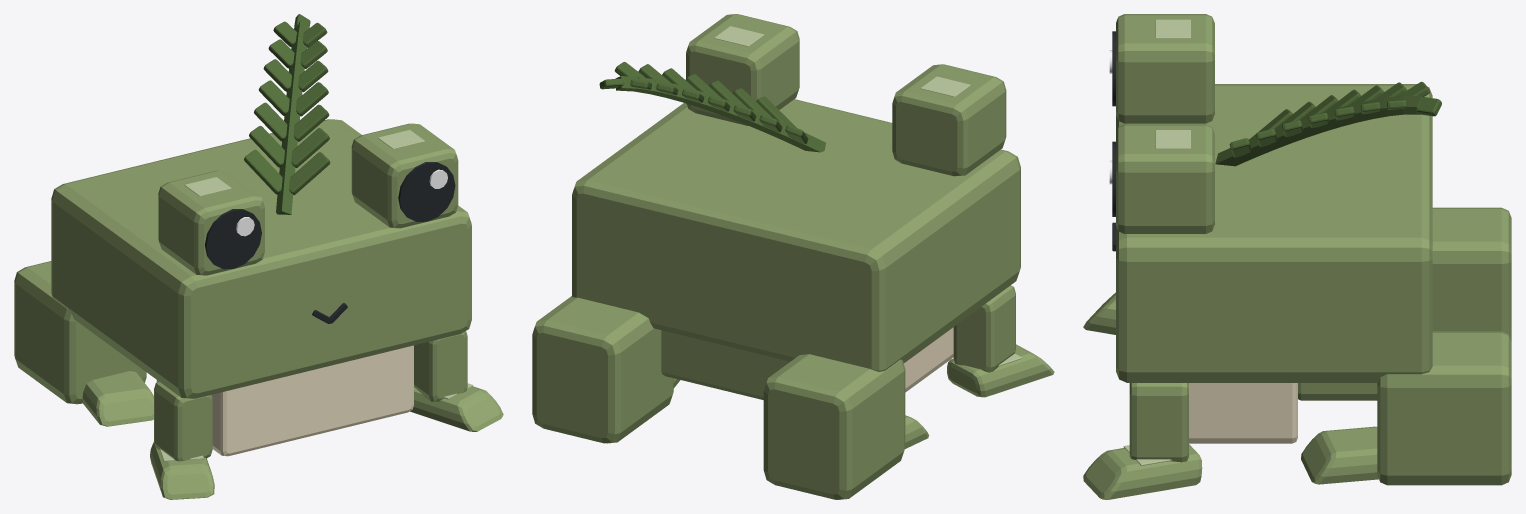
File: fern_frog.glb
The picture shows the model from 3 angles, left to right: view 1: azimuth 30°, elevation 25°; view 2: azimuth 150°, elevation 25°; view 3: azimuth 270°, elevation 25°; orthographic projection. The views are drawn at different scales.
Parts seen in each view (by area): view 1: Body_Main, Belly_Mesh, Leg_BR_Haunch, EyeBlock_L_Mesh, EyeBlock_R_Mesh, Leg_FR_Upper, Leg_BR_Foot, Leg_FL_Upper, Leg_FL_Foot, Eye_R_Pupil, Eye_L_Pupil, Leg_FR_Foot (+9 smaller); view 2: Body_Main, Leg_BR_Haunch, Leg_BL_Haunch, EyeBlock_R_Mesh, EyeBlock_L_Mesh, Body_Underside, Leg_FR_Upper, Leg_FR_Foot, Fern, Belly_Mesh, EyeBlock_L_Top, EyeBlock_R_Top; view 3: Body_Main, Leg_BL_Haunch, EyeBlock_R_Mesh, EyeBlock_L_Mesh, Leg_BR_Haunch, Belly_Mesh, Leg_FL_Upper, Leg_FL_Foot, Leg_BL_Foot, Fern, Body_Underside, Leg_FR_Foot (+2 smaller).
Boxes of the visible parts, x1=… form: Body_Main: x1=51, y1=119, x2=471, y2=398; Belly_Mesh: x1=156, y1=345, x2=413, y2=456; Leg_BR_Haunch: x1=14, y1=261, x2=146, y2=404; EyeBlock_L_Mesh: x1=351, y1=123, x2=458, y2=228; EyeBlock_R_Mesh: x1=158, y1=170, x2=264, y2=275; Leg_FR_Upper: x1=154, y1=381, x2=212, y2=461; Leg_BR_Foot: x1=82, y1=371, x2=153, y2=426; Leg_FL_Upper: x1=414, y1=331, x2=467, y2=401; Leg_FL_Foot: x1=410, y1=386, x2=503, y2=431; Eye_R_Pupil: x1=205, y1=209, x2=261, y2=269; Eye_L_Pupil: x1=398, y1=162, x2=455, y2=221; Leg_FR_Foot: x1=150, y1=442, x2=214, y2=499; Body_Main: x1=572, y1=99, x2=1020, y2=371; Leg_BR_Haunch: x1=763, y1=354, x2=905, y2=499; Leg_BL_Haunch: x1=532, y1=296, x2=673, y2=443; EyeBlock_R_Mesh: x1=892, y1=64, x2=1006, y2=176; EyeBlock_L_Mesh: x1=686, y1=14, x2=799, y2=125; Body_Underside: x1=661, y1=330, x2=789, y2=399; Leg_FR_Upper: x1=953, y1=285, x2=1015, y2=372; Leg_FR_Foot: x1=947, y1=344, x2=1054, y2=397; Fern: x1=615, y1=76, x2=825, y2=152; Belly_Mesh: x1=904, y1=327, x2=953, y2=392; EyeBlock_L_Top: x1=714, y1=26, x2=764, y2=46; EyeBlock_R_Top: x1=920, y1=76, x2=970, y2=96; Body_Main: x1=1116, y1=84, x2=1432, y2=382; Leg_BL_Haunch: x1=1377, y1=331, x2=1511, y2=485; EyeBlock_R_Mesh: x1=1116, y1=14, x2=1214, y2=123; EyeBlock_L_Mesh: x1=1116, y1=124, x2=1214, y2=233; Leg_BR_Haunch: x1=1432, y1=207, x2=1511, y2=340; Belly_Mesh: x1=1189, y1=383, x2=1297, y2=443; Leg_FL_Upper: x1=1129, y1=383, x2=1188, y2=462; Leg_FL_Foot: x1=1083, y1=444, x2=1202, y2=499; Leg_BL_Foot: x1=1301, y1=426, x2=1378, y2=484; Fern: x1=1215, y1=95, x2=1422, y2=166; Body_Underside: x1=1298, y1=383, x2=1377, y2=400; Leg_FR_Foot: x1=1083, y1=292, x2=1115, y2=334.
Size of the model in its own units: 1.16 by 1.03 by 1.08.
